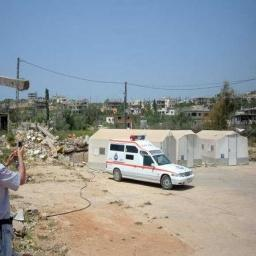Ambulance: (106, 135, 193, 188)
